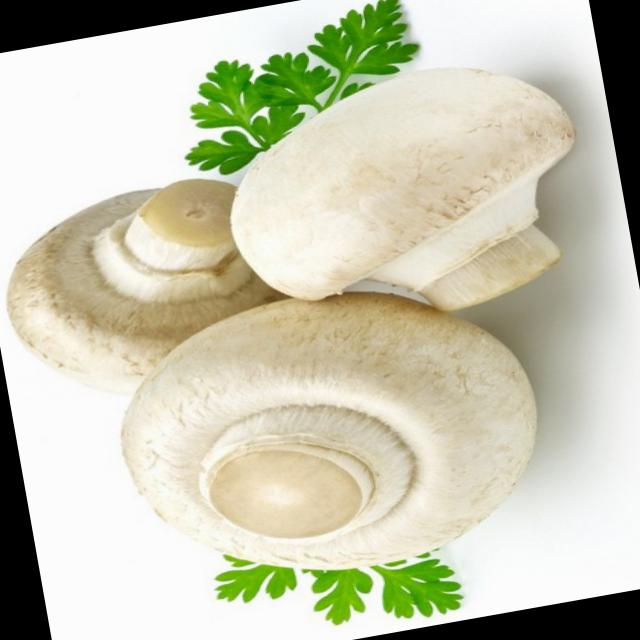Agaricus bisporus: (101, 264, 560, 604), (210, 47, 602, 342), (0, 152, 266, 415)
